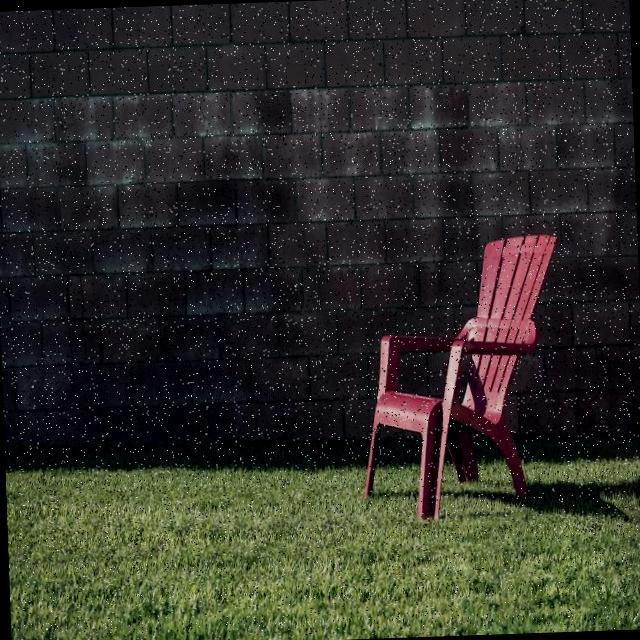lawn: (9, 457, 640, 640)
